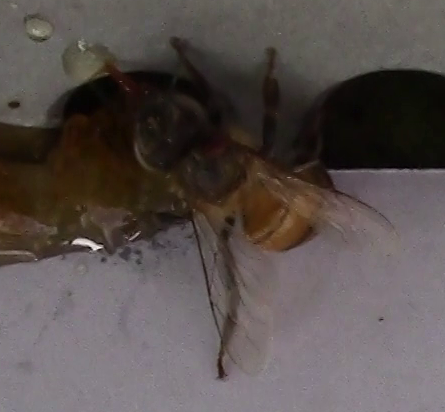Varroa destructor: (197, 131, 230, 156)
